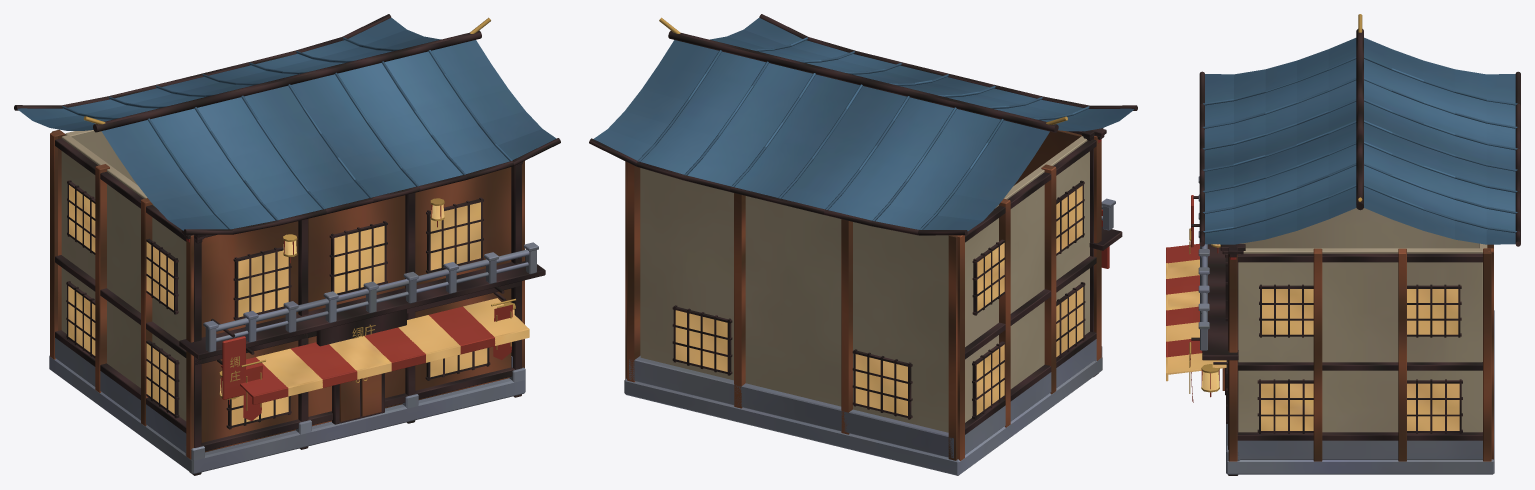
File: model-shop-04.glb
The picture shows the model from 3 angles, left to right: view 1: azimuth 30°, elevation 25°; view 2: azimuth 150°, elevation 25°; view 3: azimuth 270°, elevation 25°; orthographic projection. The views are drawn at different scales.
Visible parts, largest first — view 1: model-shop-04; view 2: model-shop-04; view 3: model-shop-04.
Part boxes in pixels (bbox=[...]): model-shop-04: bbox=[14, 14, 560, 475]; model-shop-04: bbox=[589, 14, 1137, 475]; model-shop-04: bbox=[1166, 14, 1520, 475].
Bounding box in the file's own units: 12.05 × 8.99 × 9.78.
Materials: 9 (9 with a texture image).
